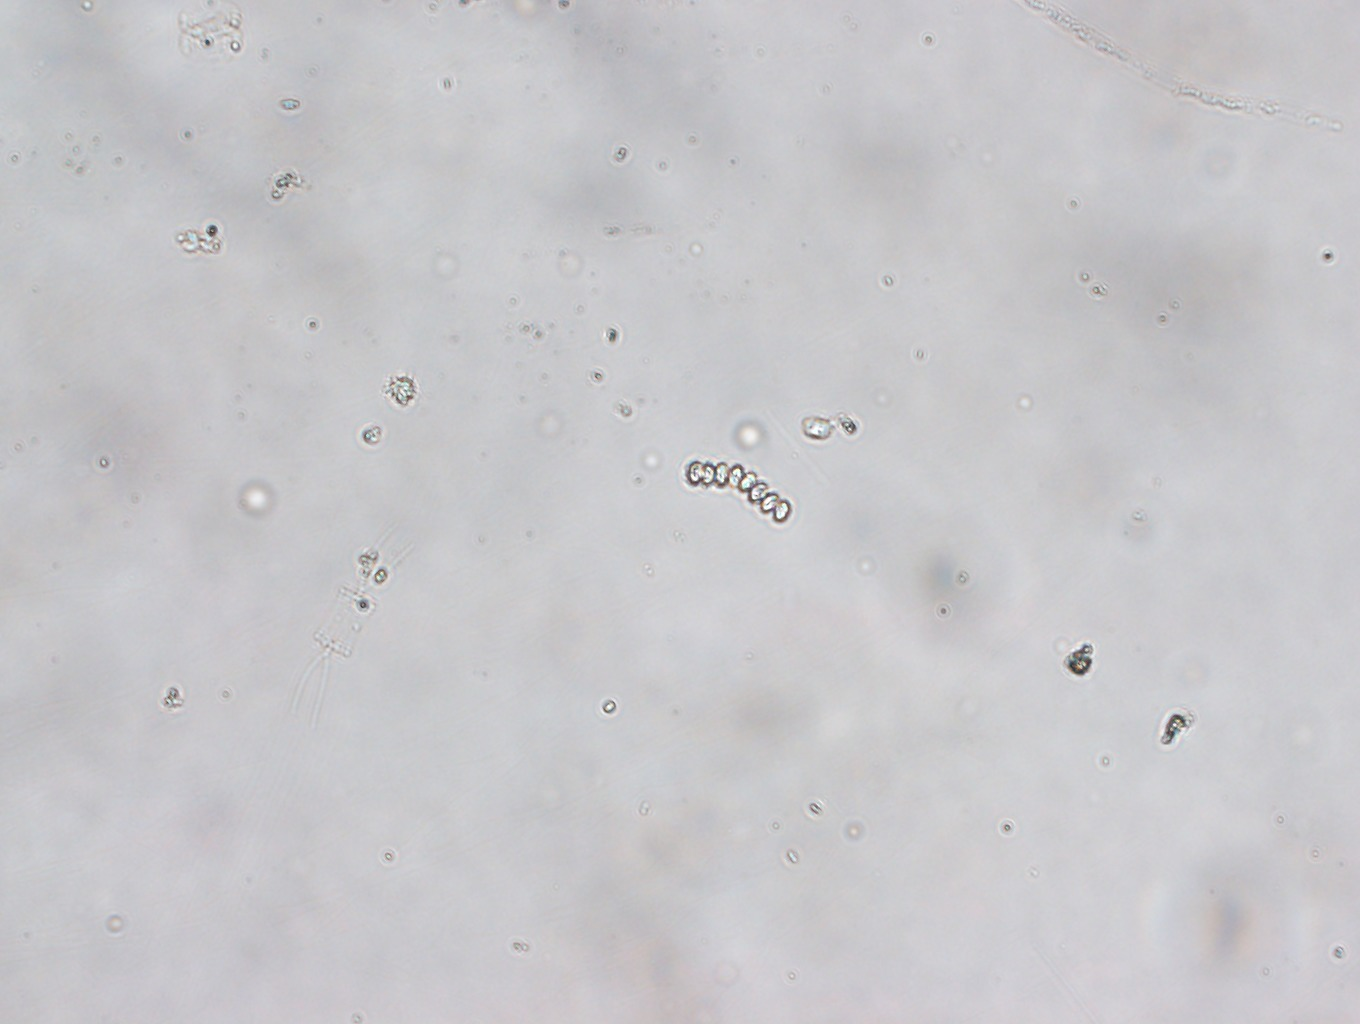skeletonema: (683, 456, 794, 525)
